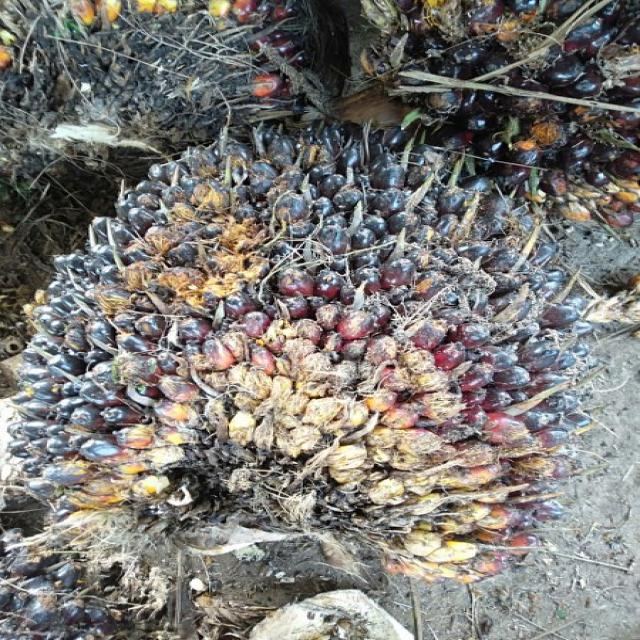fraksi 00: (0, 121, 566, 582)
